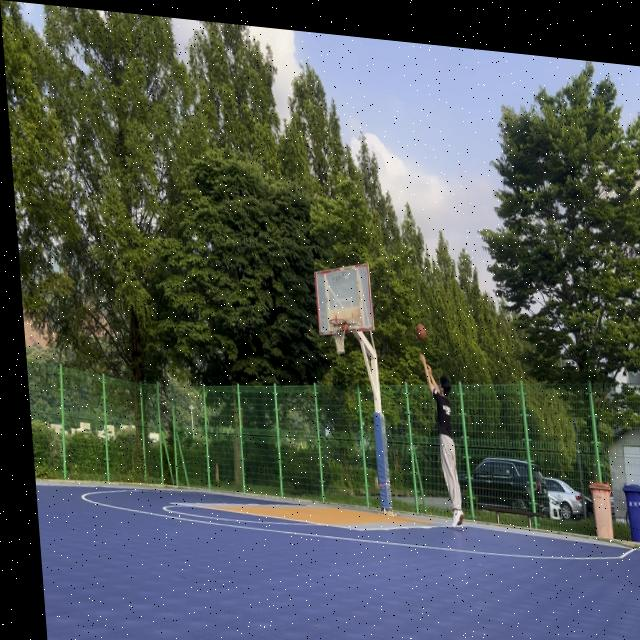basketball: (415, 323, 427, 342)
hoop: (328, 317, 350, 357)
